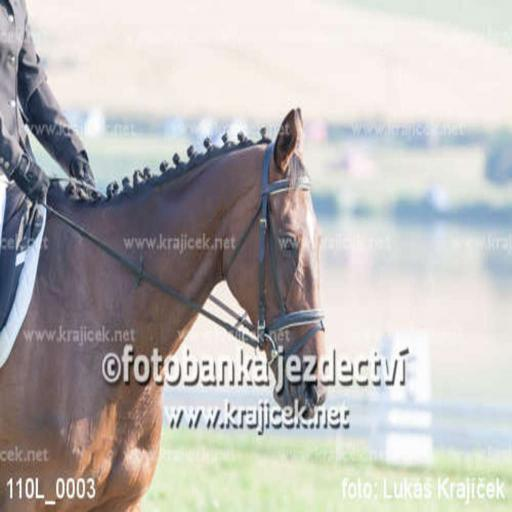horse: (1, 104, 326, 510)
